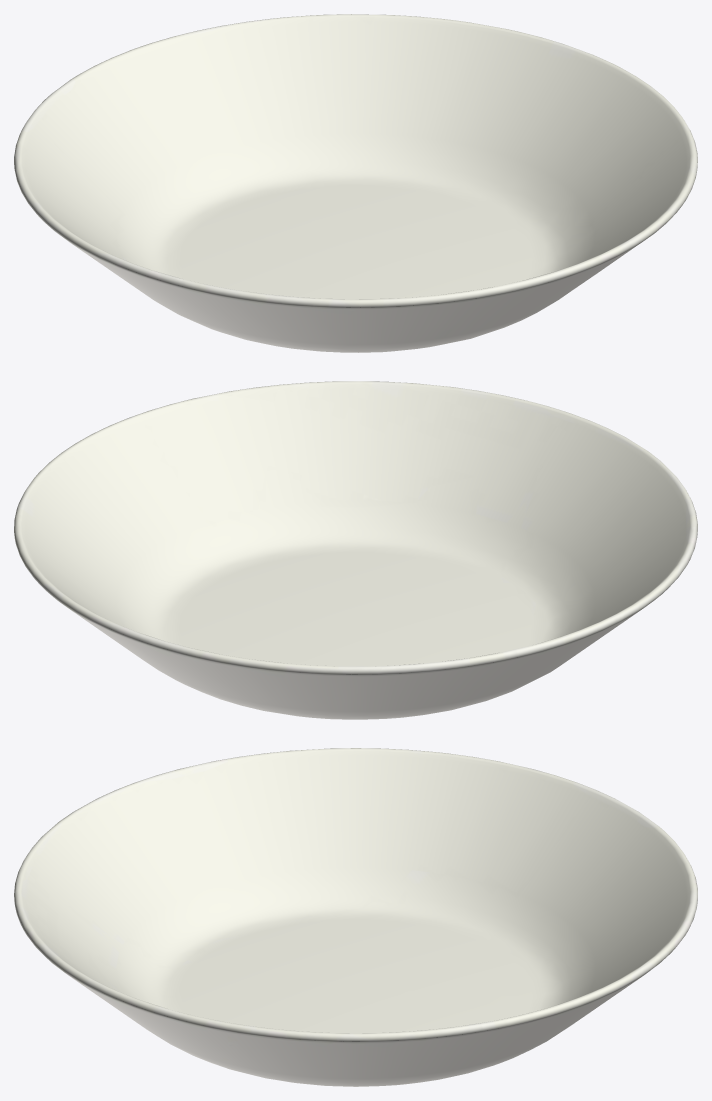
File: oftast_talerz_geboki_00318942.glb
3 renders of one model, top to bottom at view 1: azimuth 30°, elevation 25°; view 2: azimuth 150°, elevation 25°; view 3: azimuth 270°, elevation 25°, orthographic.
Parts seen in each view (by area): view 1: oftast_talerz_geboki_00318942; view 2: oftast_talerz_geboki_00318942; view 3: oftast_talerz_geboki_00318942.
Boxes of the visible parts, box(x1,y1,x2,y2) form: oftast_talerz_geboki_00318942: box(14, 14, 697, 352); oftast_talerz_geboki_00318942: box(14, 381, 697, 719); oftast_talerz_geboki_00318942: box(14, 748, 697, 1086).
Bounding box in the file's own units: 0.2025 × 0.0365 × 0.2025.
Materials: 1 (1 with a texture image).
